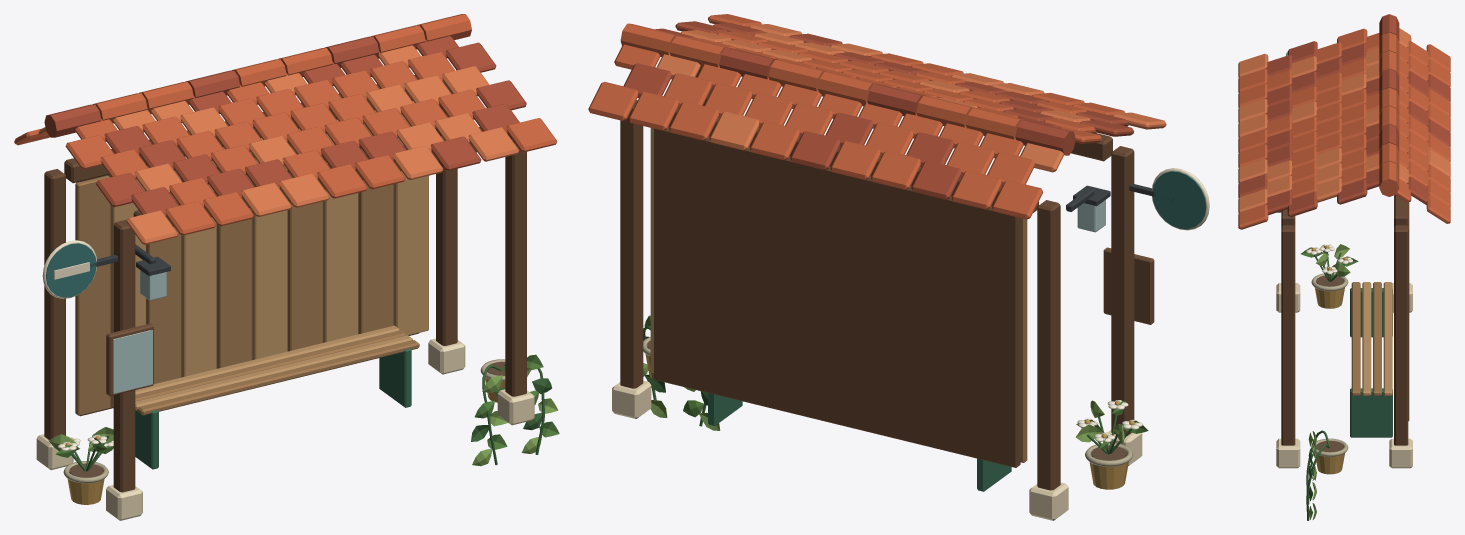
3 views of the same model, side by side, from view 1: azimuth 30°, elevation 25°; view 2: azimuth 150°, elevation 25°; view 3: azimuth 270°, elevation 25° (orthographic). The views are drawn at different scales.
Parts seen in each view (by area): view 1: lane_terracotta, lane_wood, lane_wood_light, lane_timber, lane_terracotta_dark, lane_terracotta_light, lane_limestone, lane_glass, lane_shutter_dark, lane_enamel_teal, lane_leaf_dark, lane_leaf_light (+6 smaller); view 2: lane_timber, lane_terracotta, lane_terracotta_dark, lane_terracotta_light, lane_limestone, lane_enamel_teal, lane_wood_dark, lane_wood, lane_shutter_dark, lane_leaf_light, lane_ochre, lane_wood_light (+3 smaller); view 3: lane_terracotta, lane_terracotta_dark, lane_timber, lane_terracotta_light, lane_shutter_dark, lane_wood_light, lane_wood, lane_limestone, lane_ochre, lane_leaf_dark, lane_leaf_light, lane_ceramic (+3 smaller).
Boxes of the visible parts, x1,y1,x2,y2 form: lane_terracotta: [14, 14, 556, 235]; lane_wood: [75, 110, 419, 415]; lane_wood_light: [111, 101, 428, 410]; lane_timber: [44, 75, 526, 492]; lane_terracotta_dark: [44, 36, 526, 216]; lane_terracotta_light: [38, 45, 519, 244]; lane_limestone: [36, 338, 534, 520]; lane_glass: [113, 270, 166, 393]; lane_shutter_dark: [135, 348, 411, 469]; lane_enamel_teal: [46, 243, 96, 297]; lane_leaf_dark: [71, 365, 551, 471]; lane_leaf_light: [48, 368, 558, 466]; lane_timber: [620, 67, 1134, 490]; lane_terracotta: [588, 14, 1125, 219]; lane_terracotta_dark: [623, 21, 1133, 199]; lane_terracotta_light: [656, 24, 1166, 172]; lane_limestone: [612, 380, 1142, 520]; lane_enamel_teal: [1152, 171, 1206, 229]; lane_wood_dark: [1103, 247, 1154, 324]; lane_wood: [1020, 218, 1027, 462]; lane_shutter_dark: [708, 393, 1011, 491]; lane_leaf_light: [643, 363, 1124, 443]; lane_ochre: [645, 346, 1134, 489]; lane_wood_light: [650, 128, 653, 372]; lane_terracotta: [1238, 28, 1450, 229]; lane_terracotta_dark: [1238, 14, 1450, 216]; lane_timber: [1281, 195, 1409, 445]; lane_terracotta_light: [1238, 28, 1450, 213]; lane_shutter_dark: [1350, 288, 1392, 437]; lane_wood_light: [1362, 282, 1392, 395]; lane_wood: [1351, 282, 1381, 395]; lane_limestone: [1276, 283, 1412, 468]; lane_ochre: [1311, 245, 1347, 474]; lane_leaf_dark: [1306, 252, 1344, 520]; lane_leaf_light: [1308, 244, 1350, 519]; lane_ceramic: [1311, 273, 1348, 456].
Size of the model in its own units: 4.21 by 3.1 by 1.79.
